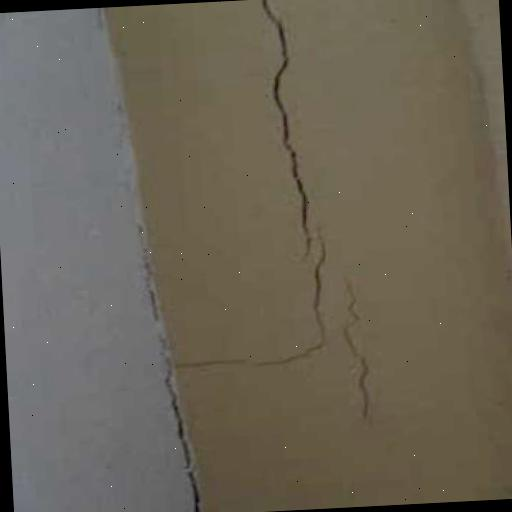spalling: (183, 1, 331, 375), (338, 274, 377, 418)
